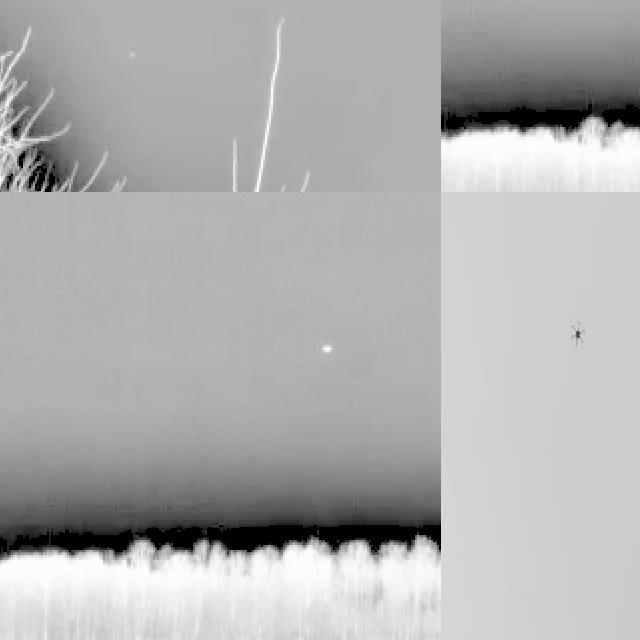0: (123, 43, 147, 71)
1: (318, 338, 342, 362)
drone: (566, 317, 589, 352)
